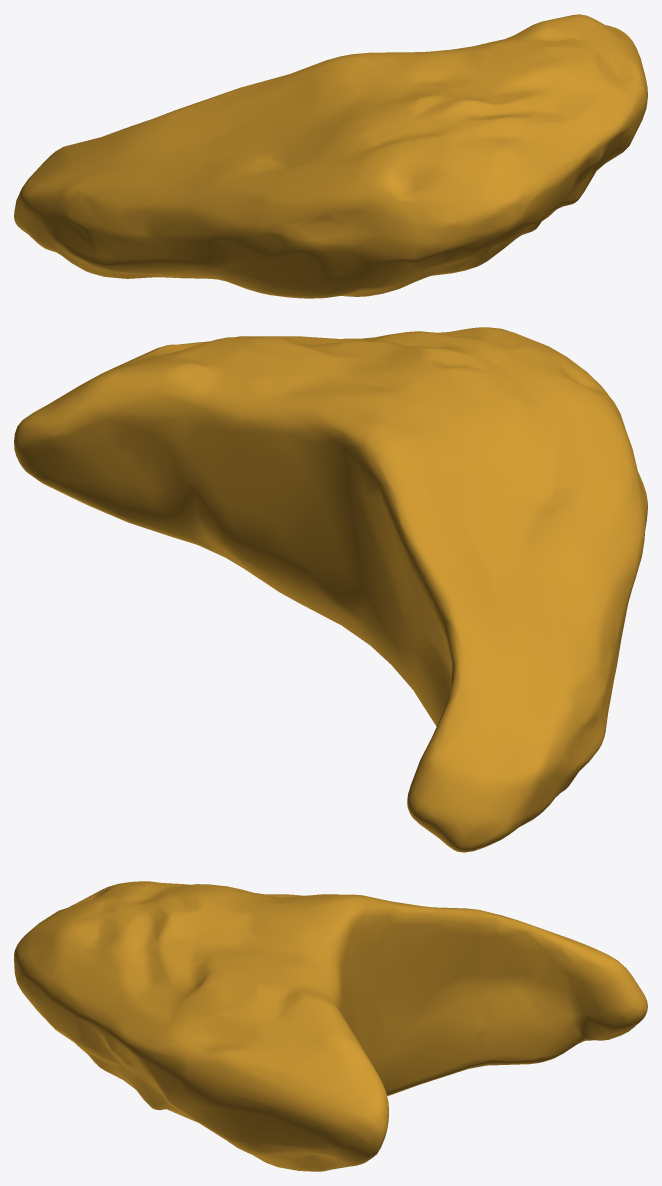
3 views of the same model, one above another, from view 1: azimuth 30°, elevation 25°; view 2: azimuth 150°, elevation 25°; view 3: azimuth 270°, elevation 25° (orthographic). The views are drawn at different scales.
Parts seen in each view (by area): view 1: 左侧肾上腺; view 2: 左侧肾上腺; view 3: 左侧肾上腺.
Part boxes in pixels (x1,y1,x2,y2): 左侧肾上腺: [14, 14, 647, 298]; 左侧肾上腺: [14, 327, 647, 852]; 左侧肾上腺: [14, 881, 647, 1171].
Size of the model in its own units: 0.071 by 0.0297 by 0.0661.
